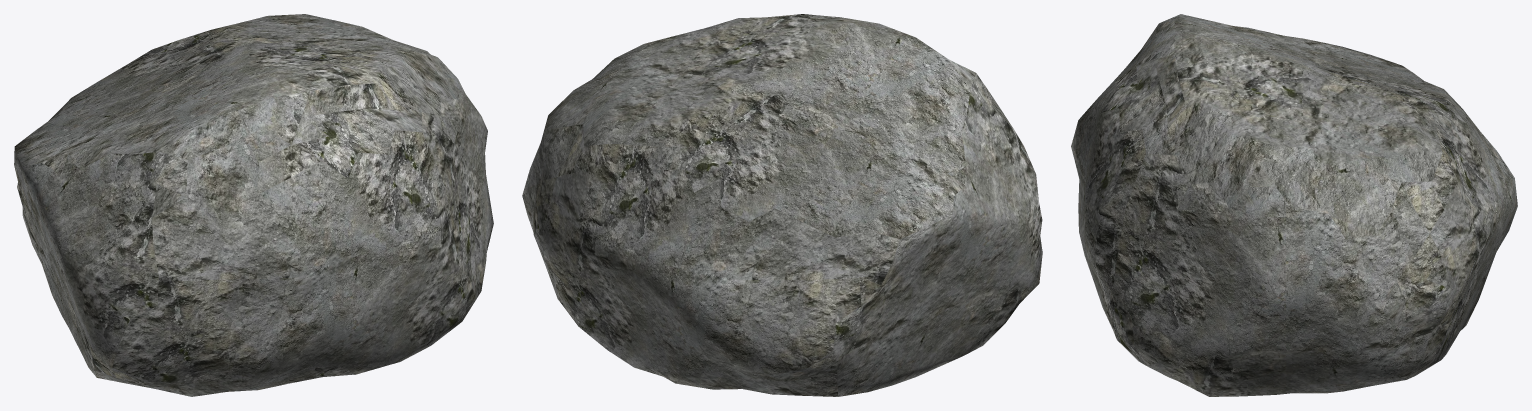
Rendered from rock_angular.glb.
The picture shows the model from 3 angles, left to right: view 1: azimuth 30°, elevation 25°; view 2: azimuth 150°, elevation 25°; view 3: azimuth 270°, elevation 25°; orthographic projection. The views are drawn at different scales.
Parts seen in each view (by area): view 1: plant; view 2: plant; view 3: plant.
Boxes of the visible parts, left/top/right/bottom form: plant: left=14, top=14, right=493, bottom=396; plant: left=522, top=14, right=1042, bottom=396; plant: left=1071, top=14, right=1517, bottom=396.
Bounding box in the file's own units: 1.15 × 0.6974 × 1.03.
1 material, 1 textured.
